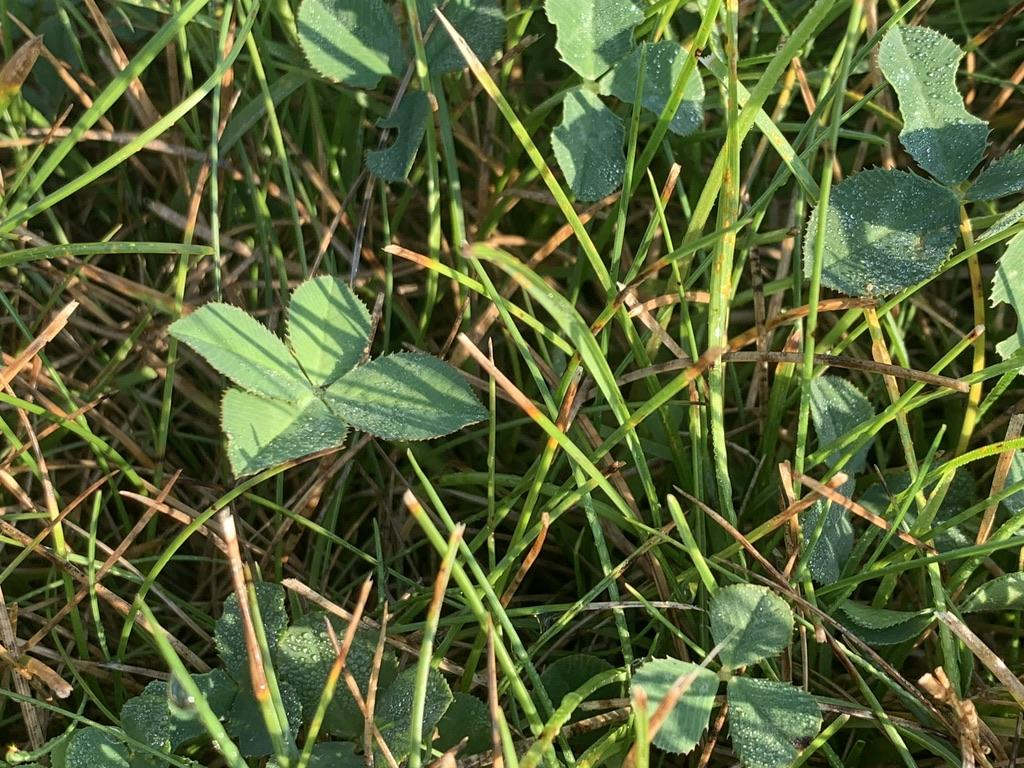4-Leaf-Clovers: (365, 402, 627, 643)
